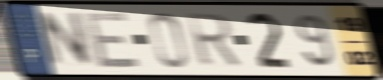0: (147, 10, 191, 70)
2: (247, 11, 292, 70)
9: (294, 13, 336, 69)
E: (83, 10, 143, 70)
N: (37, 10, 96, 69)
R: (184, 12, 244, 69)
